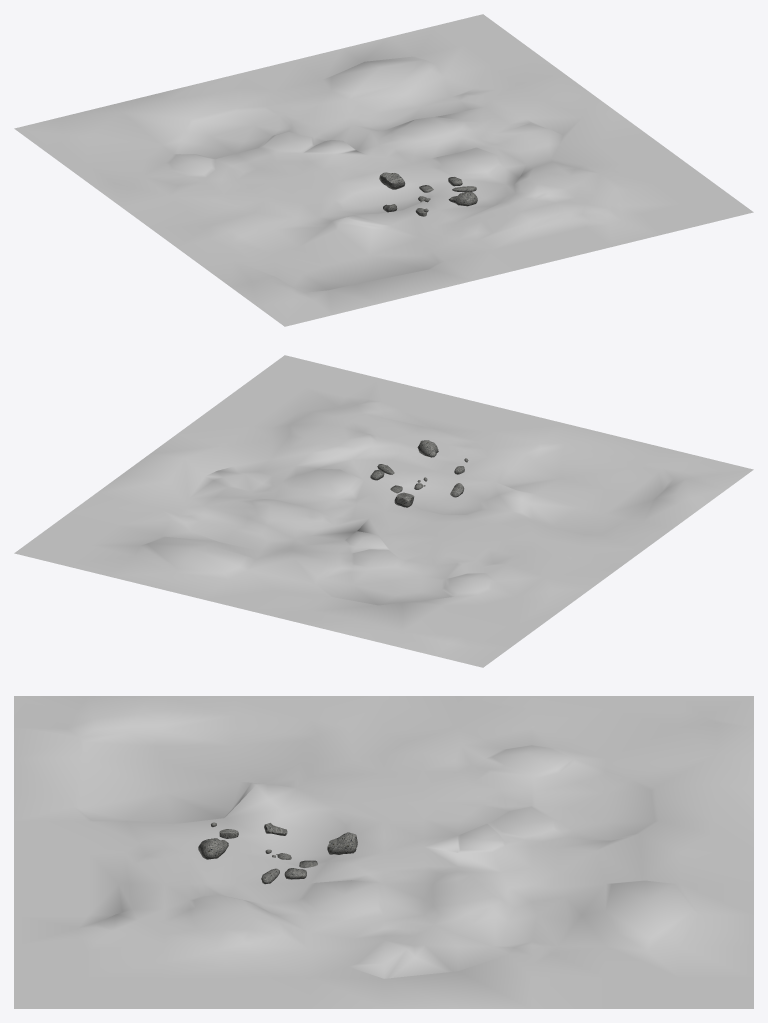
File: BG_001_jimenn_02_fbx.fbx
3 renders of one model, top to bottom at view 1: azimuth 30°, elevation 25°; view 2: azimuth 150°, elevation 25°; view 3: azimuth 270°, elevation 25°, orthographic. The views are drawn at different scales.
Visible parts, largest first — view 1: Plane001, Box006; view 2: Plane001, Box006; view 3: Plane001, Box006.
Boxes of the visible parts, x1,y1,x2,y2 form: Plane001: (14,14,753,326); Box006: (379,172,477,216); Plane001: (14,355,753,667); Box006: (370,440,468,507); Plane001: (14,696,753,1008); Box006: (198,822,357,884).
Size of the model in its own units: 394 by 22.38 by 394.
